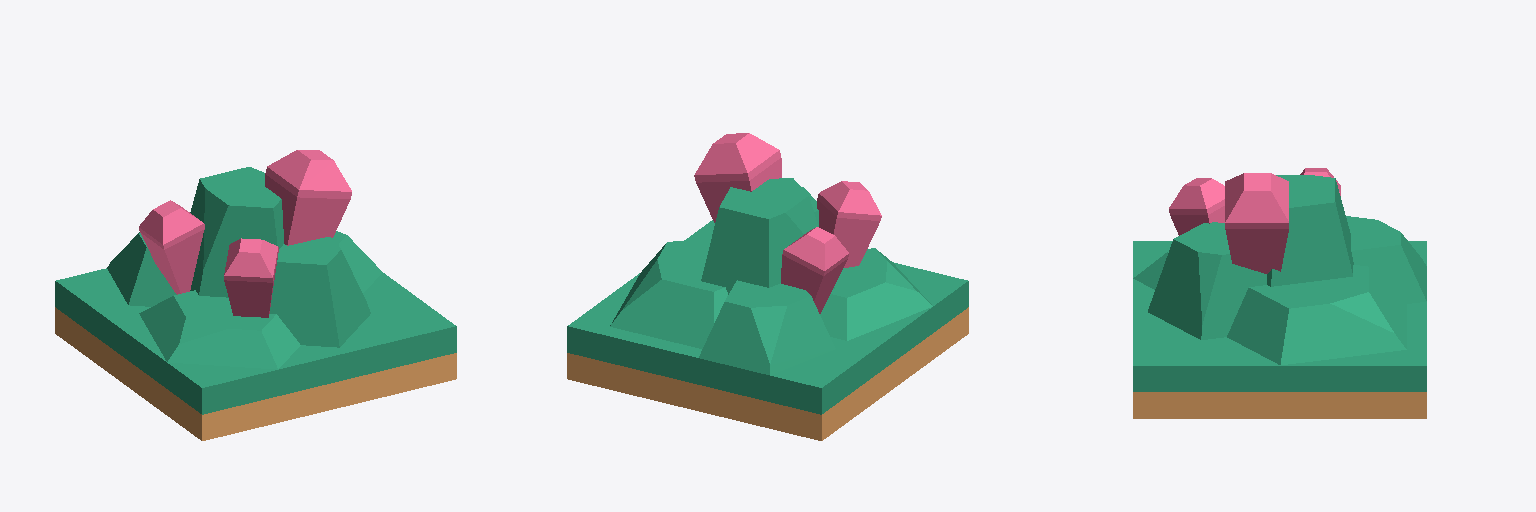
Rendered from tile_crystal.obj.
3 views of the same model, side by side, from view 1: azimuth 30°, elevation 25°; view 2: azimuth 150°, elevation 25°; view 3: azimuth 270°, elevation 25° (orthographic).
Parts seen in each view (by area): view 1: tile_crystal, rocks, crystal; view 2: rocks, tile_crystal, crystal; view 3: rocks, tile_crystal, crystal.
Part boxes in pixels (x1,y1,x2,y2): tile_crystal: (55, 268, 456, 440); rocks: (107, 167, 382, 369); crystal: (139, 150, 351, 317); rocks: (610, 178, 932, 375); tile_crystal: (567, 220, 968, 440); crystal: (694, 133, 881, 313); rocks: (1133, 175, 1426, 364); tile_crystal: (1133, 241, 1426, 418); crystal: (1169, 168, 1340, 273).
Bounding box in the file's own units: 1 × 0.7565 × 1.